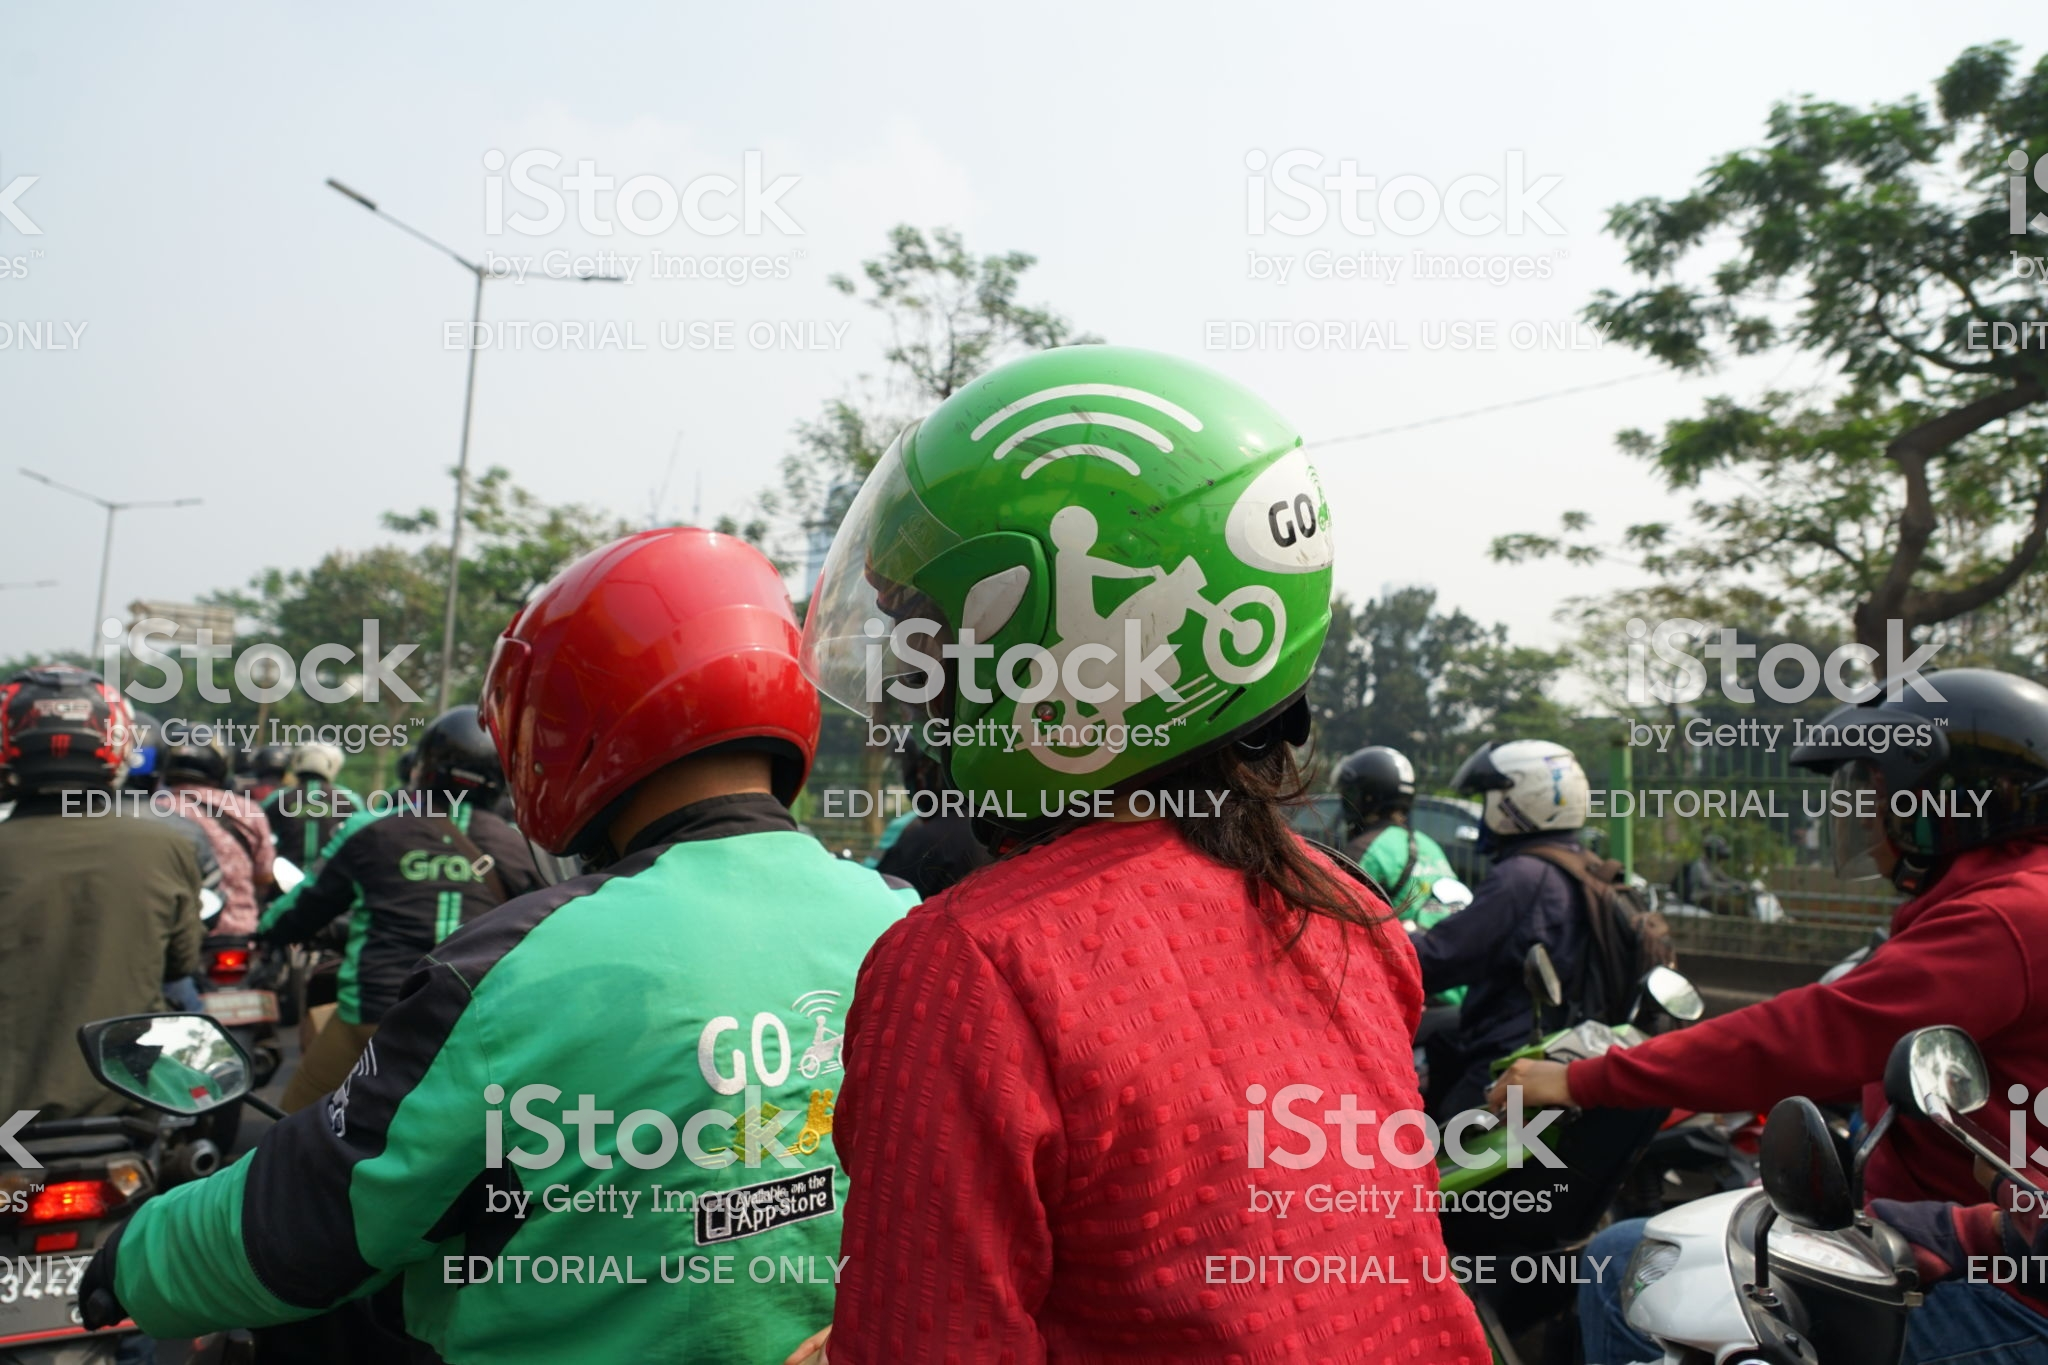helmet: (844, 331, 1352, 806), (474, 539, 819, 807), (1456, 737, 1596, 844), (1303, 731, 1408, 800)
